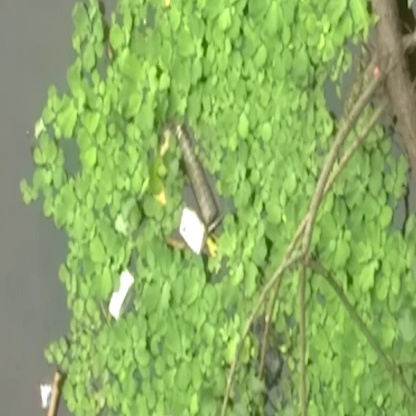branch: (289, 67, 400, 302)
